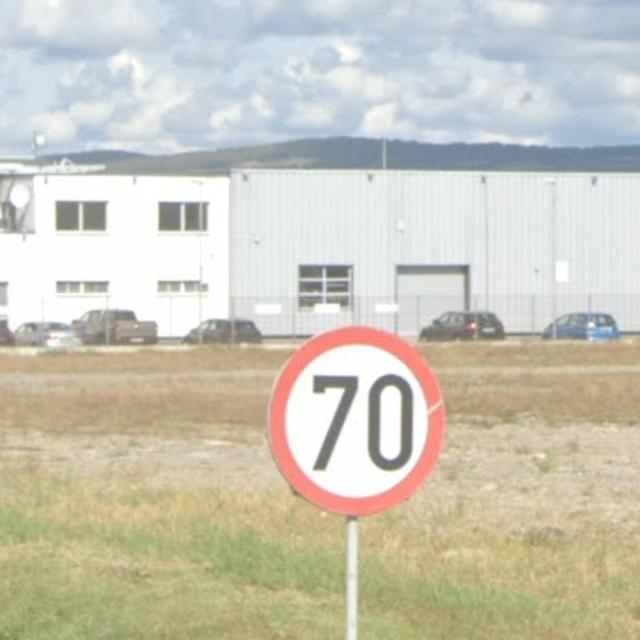forb_speed_over_70: (264, 325, 448, 510)
